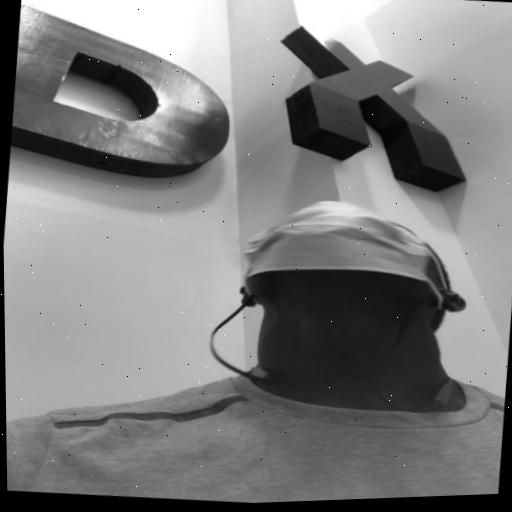mask: (236, 189, 456, 324)
